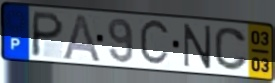9: (105, 17, 135, 65)
A: (59, 12, 103, 64)
C: (138, 17, 172, 69), (213, 26, 250, 73)
N: (182, 22, 213, 71)
P: (29, 10, 66, 59)
